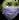with_mask: (2, 1, 19, 20)
